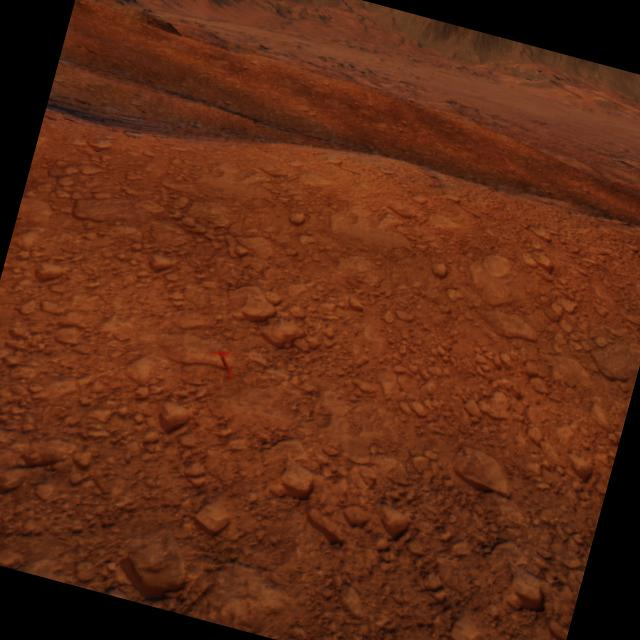newhammer: (206, 347, 238, 377)
